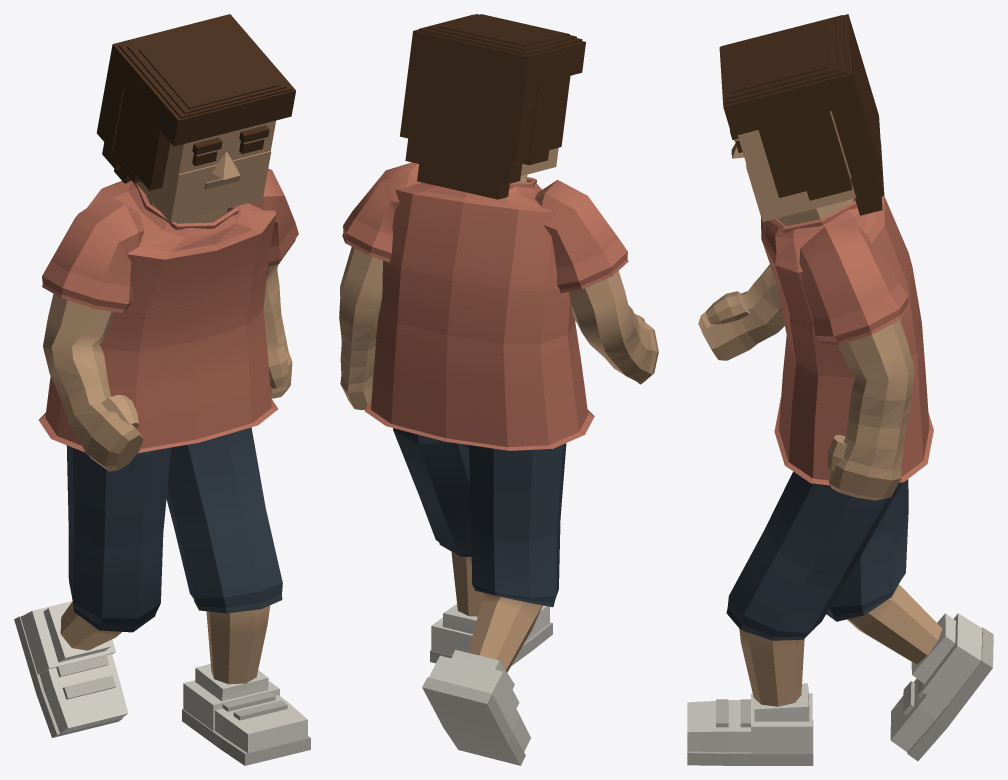
The model's file is neighborhood-child-8cc5ac__walk1.glb.
3 views of the same model, side by side, from view 1: azimuth 30°, elevation 25°; view 2: azimuth 150°, elevation 25°; view 3: azimuth 270°, elevation 25° (orthographic). The views are drawn at different scales.
Parts seen in each view (by area): view 1: neighborhood-child-8cc5ac__walk1; view 2: neighborhood-child-8cc5ac__walk1; view 3: neighborhood-child-8cc5ac__walk1.
Boxes of the visible parts, left/top/right/bottom form: neighborhood-child-8cc5ac__walk1: left=14, top=14, right=310, bottom=765; neighborhood-child-8cc5ac__walk1: left=339, top=14, right=658, bottom=765; neighborhood-child-8cc5ac__walk1: left=687, top=14, right=993, bottom=765.
Size of the model in its own units: 0.4792 by 1.21 by 0.4614.
